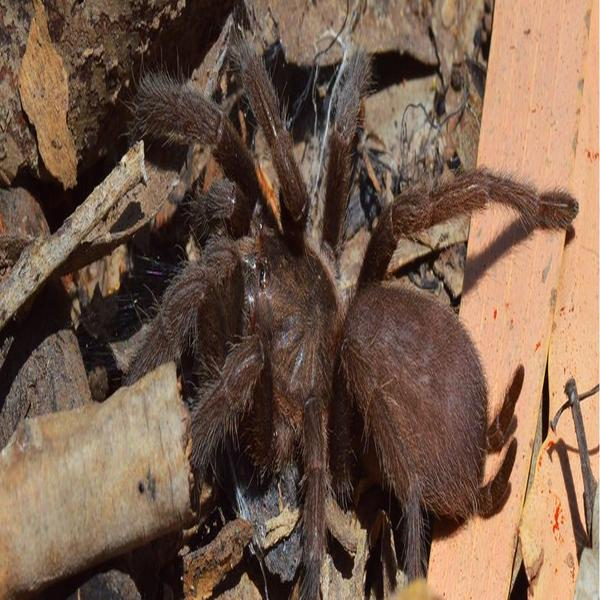Tarantula Spider: (137, 44, 542, 561)
